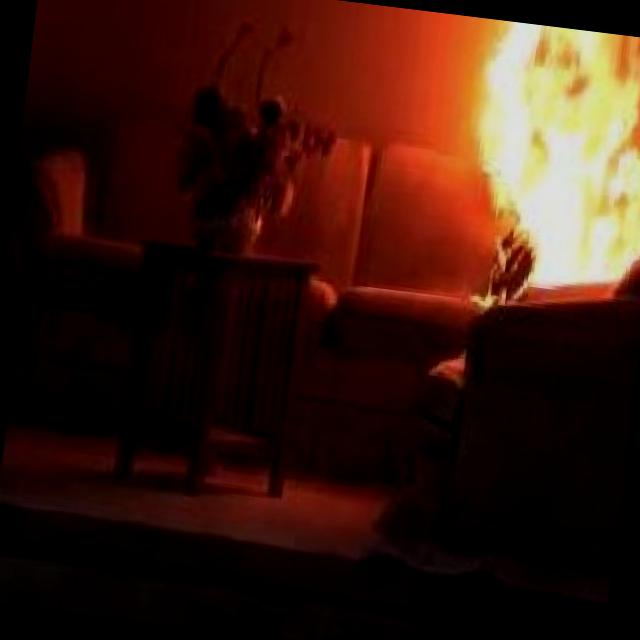fire: (424, 17, 640, 372)
